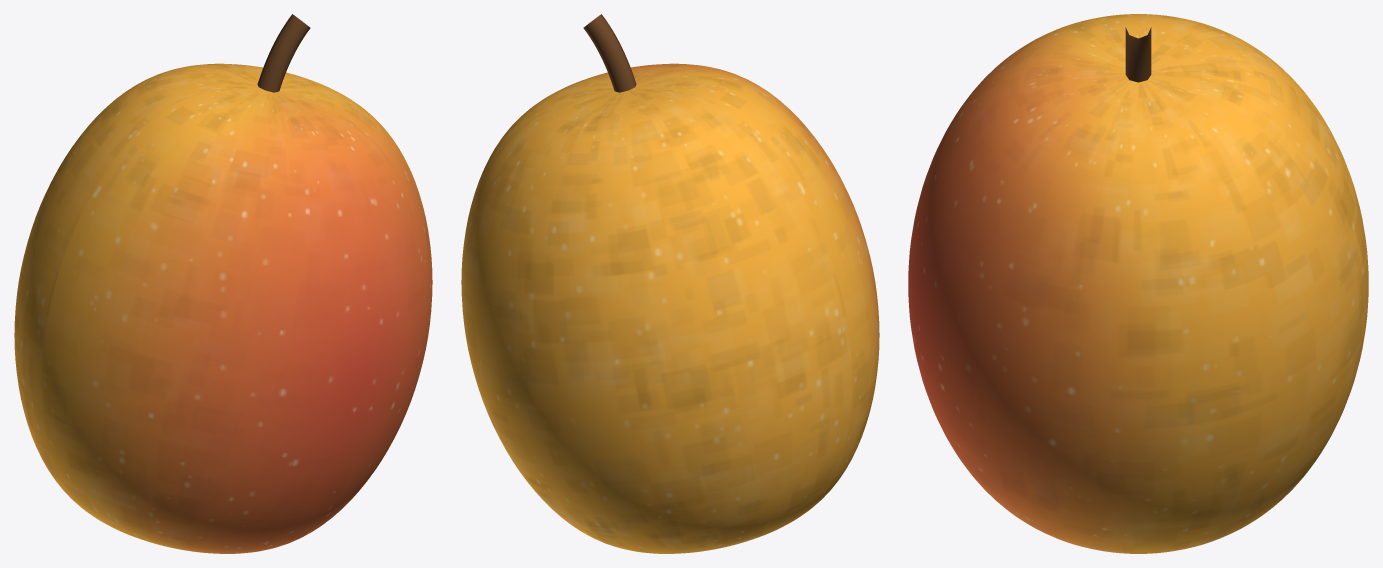
Rendered from mango.glb.
The picture shows the model from 3 angles, left to right: view 1: azimuth 30°, elevation 25°; view 2: azimuth 150°, elevation 25°; view 3: azimuth 270°, elevation 25°; orthographic projection. The views are drawn at different scales.
Bounding box in the file's own units: 0.1217 × 0.1587 × 0.1196.
2 materials, 1 textured.
